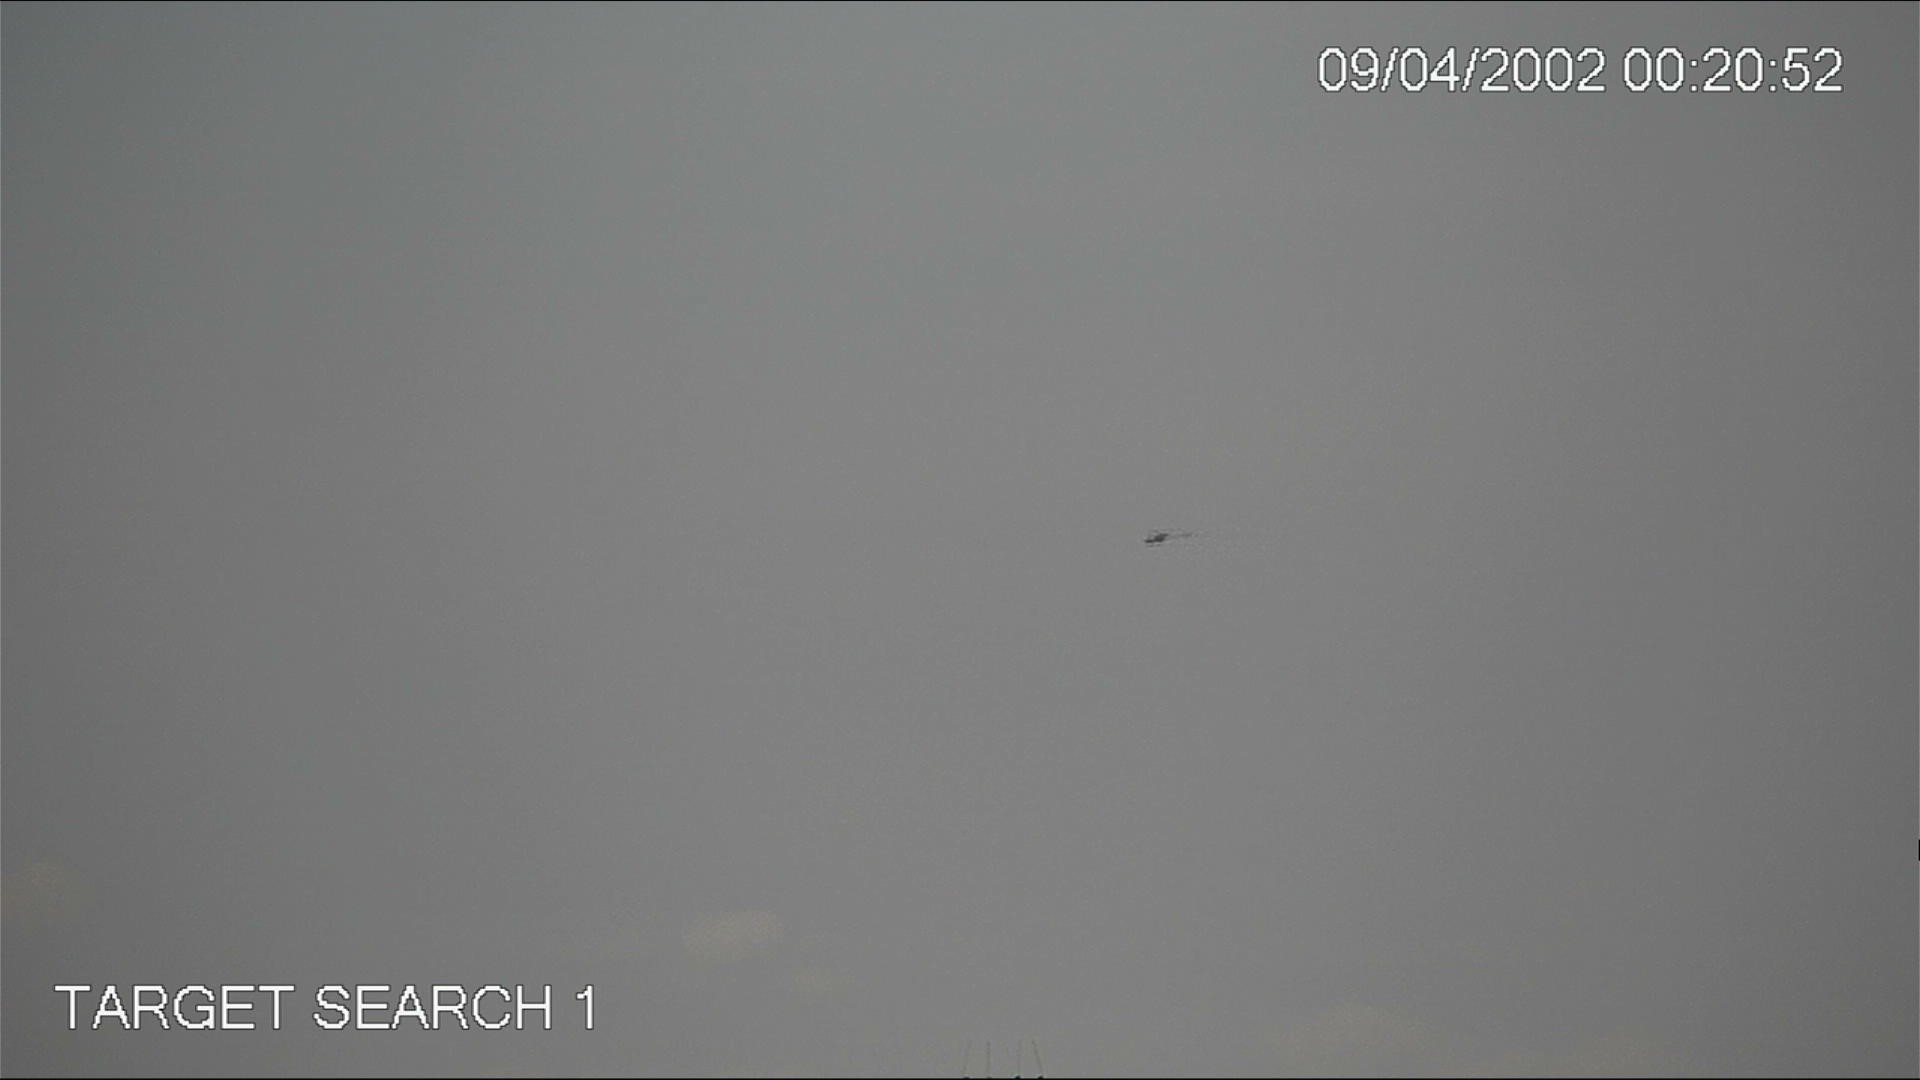SU_30: (1147, 520, 1174, 550)
